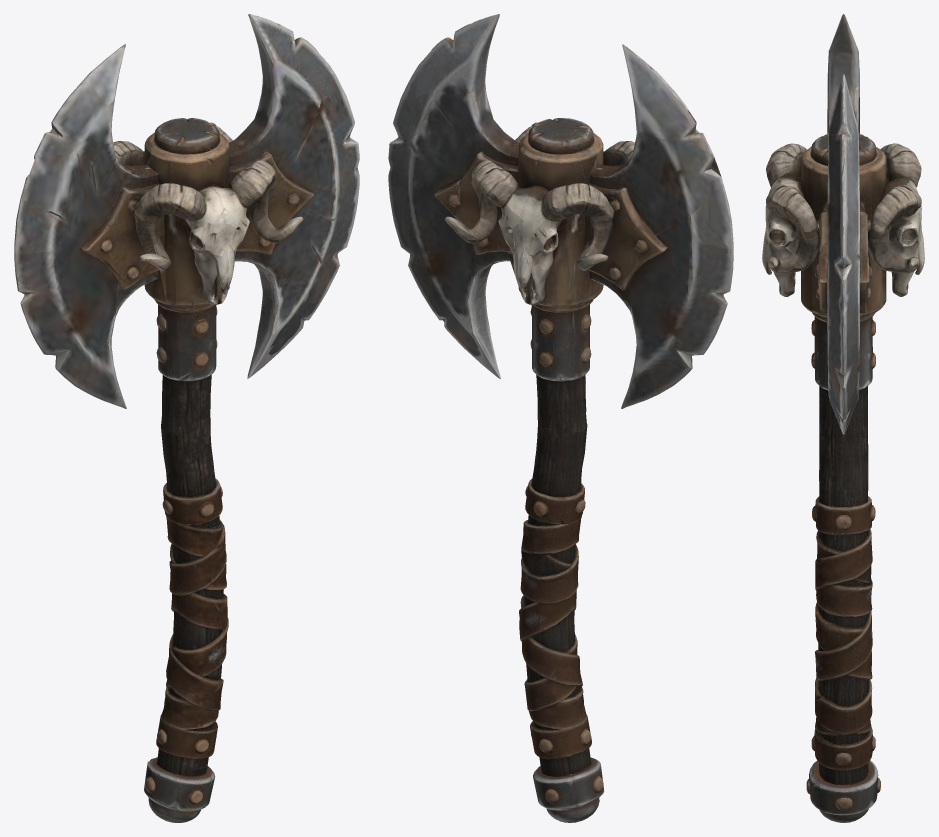
Rendered from battle_axe.glb.
The picture shows the model from 3 angles, left to right: view 1: azimuth 30°, elevation 25°; view 2: azimuth 150°, elevation 25°; view 3: azimuth 270°, elevation 25°; orthographic projection.
Parts seen in each view (by area): view 1: Mesh_0; view 2: Mesh_0; view 3: Mesh_0.
Boxes of the visible parts, box(x1,y1,x2,y2) form: Mesh_0: box(14, 14, 359, 822); Mesh_0: box(388, 14, 733, 822); Mesh_0: box(762, 14, 924, 822).
Size of the model in its own units: 0.5267 by 1.15 by 0.2174.
Materials: 1 (1 with a texture image).
